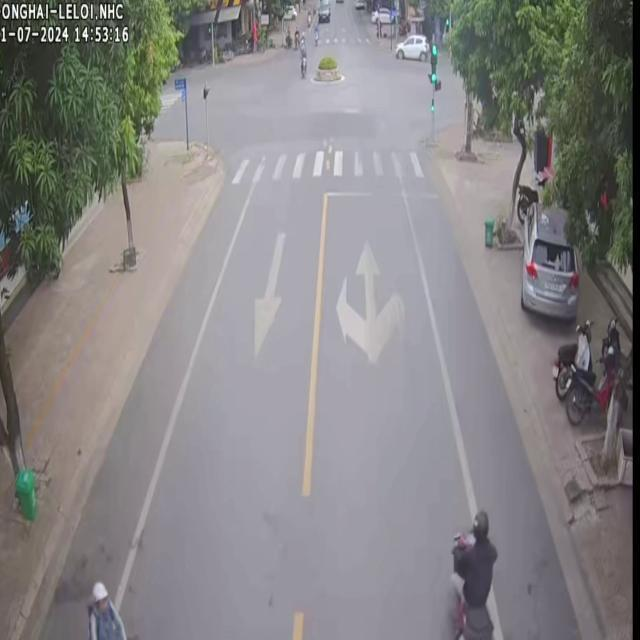car: (519, 200, 578, 318), (393, 34, 427, 58), (316, 0, 329, 19)
green_light: (430, 46, 438, 82)
motobike: (450, 509, 496, 638), (564, 345, 614, 422), (550, 318, 590, 398), (298, 34, 306, 75)
stop_line: (325, 191, 439, 199)
